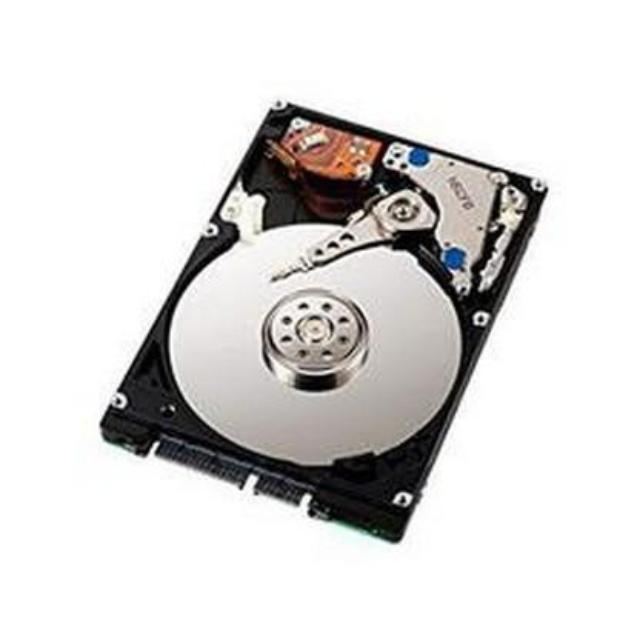DISK: (115, 90, 550, 552)
